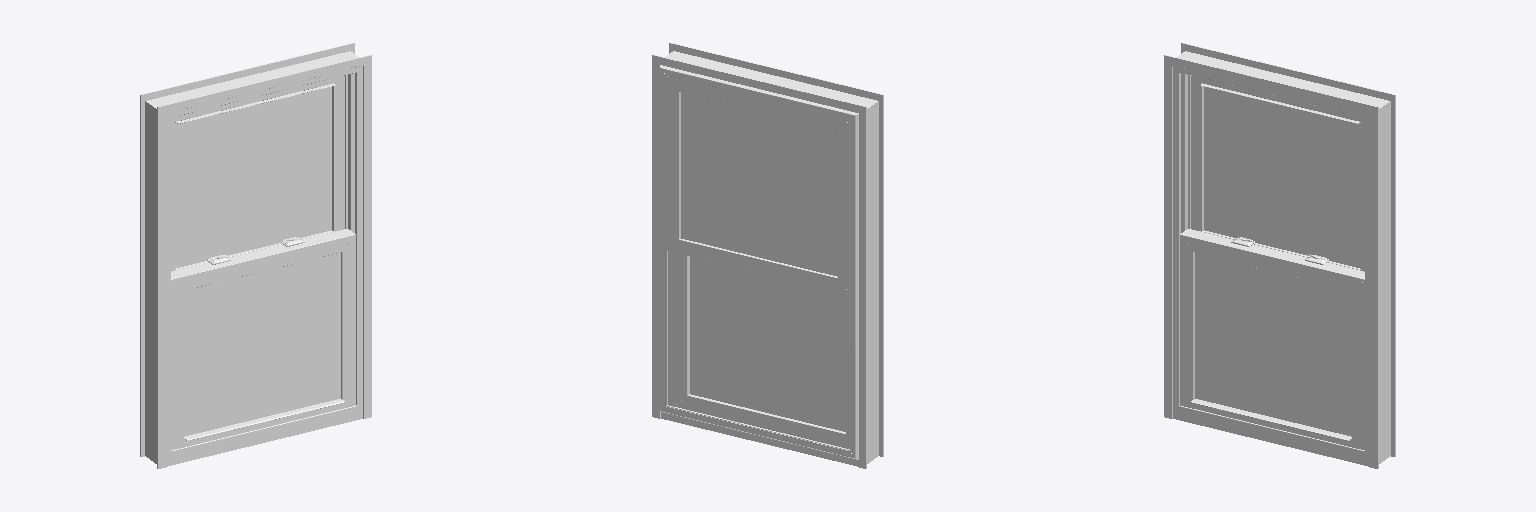
The model's file is Window_01.obj.
3 views of the same model, side by side, from view 1: azimuth 30°, elevation 25°; view 2: azimuth 150°, elevation 25°; view 3: azimuth 330°, elevation 25° (orthographic).
Visible parts, largest first — view 1: glass_lower_sash, glass_upper_sash, casing, lower_sash, jamb, upper_sash; view 2: casing, glass_upper_sash, glass_lower_sash, upper_sash, lower_sash, jamb; view 3: glass_lower_sash, glass_upper_sash, casing, lower_sash, jamb, upper_sash.
Part boxes in pixels (x1,y1,x2,y2): glass_lower_sash: (184,253,340,436); glass_upper_sash: (175,87,331,268); casing: (140,43,371,468); lower_sash: (171,229,355,449); jamb: (166,66,362,466); upper_sash: (171,76,344,271); casing: (652,43,883,468); glass_upper_sash: (681,92,837,276); glass_lower_sash: (690,257,845,431); upper_sash: (666,75,849,294); lower_sash: (676,253,849,448); jamb: (661,251,849,464); glass_lower_sash: (1195,253,1351,436); glass_upper_sash: (1204,87,1360,268); casing: (1164,43,1395,468); lower_sash: (1180,229,1364,449); jamb: (1173,66,1369,466); upper_sash: (1191,76,1364,271).
Size of the model in its own units: 93.4 by 151 by 15.17.